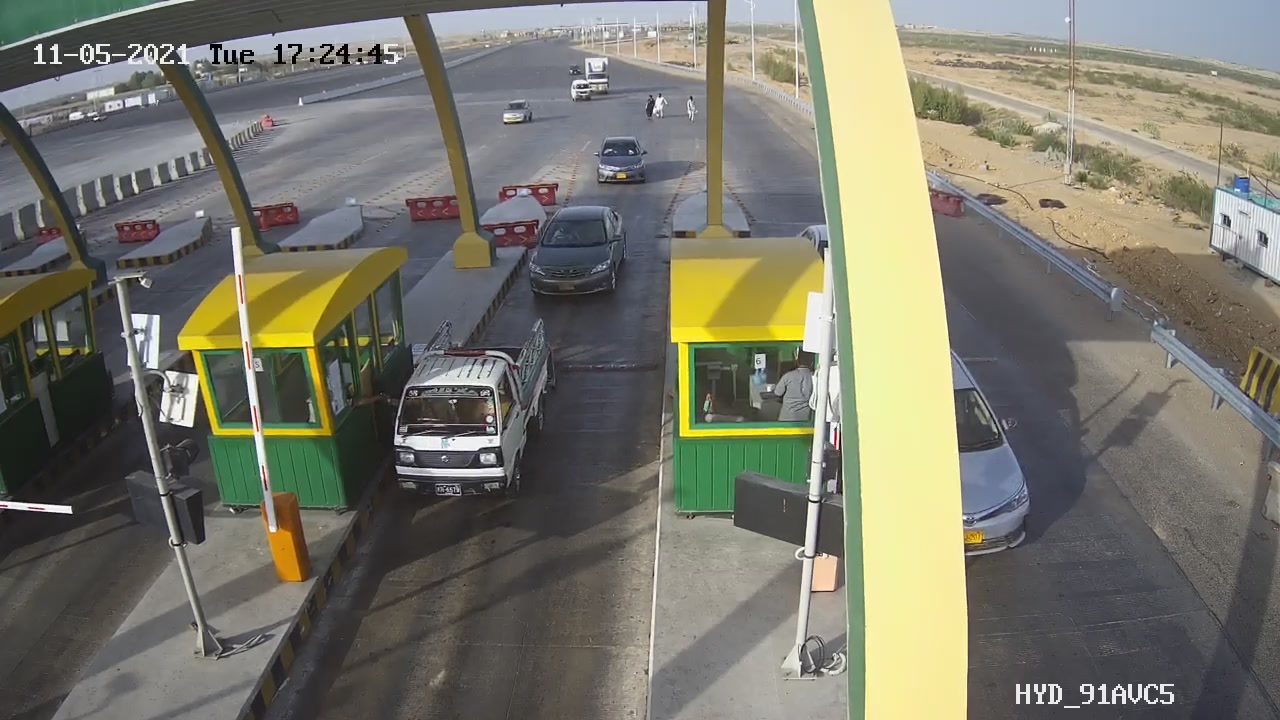F1: (512, 192, 646, 305)
